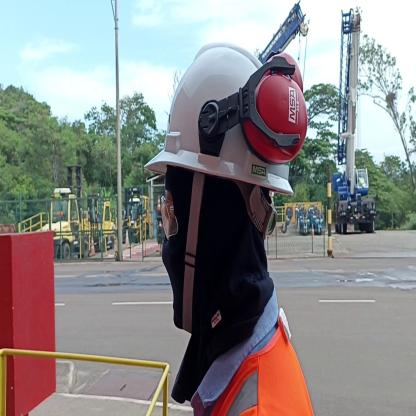Balaclava: (162, 168, 271, 336)
Capacete: (162, 40, 297, 186)
